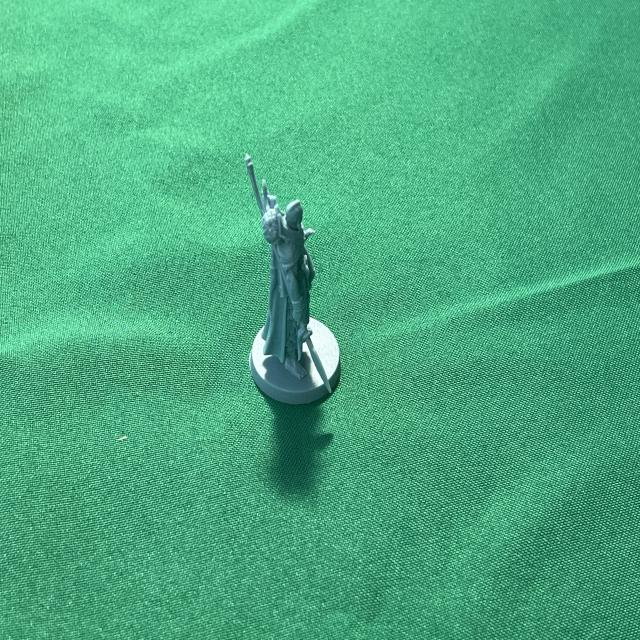isis_follower: (235, 154, 348, 406)
